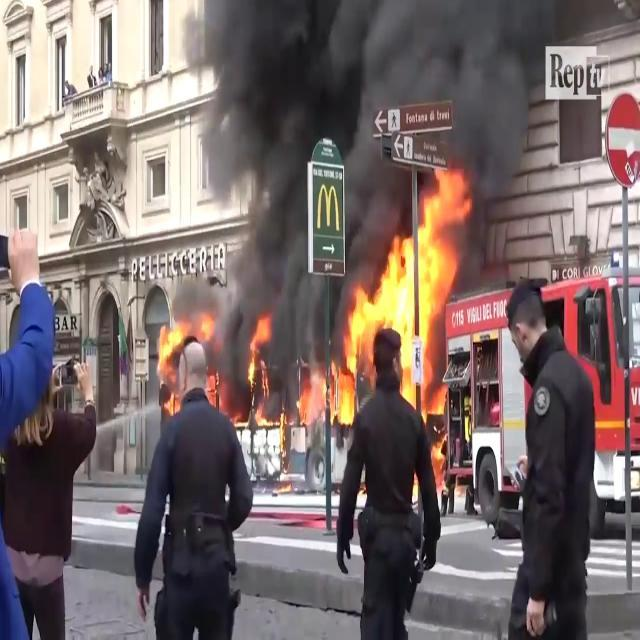Fire: (342, 166, 469, 407), (300, 351, 354, 429), (154, 315, 192, 408)
Smoke: (190, 0, 548, 246)
